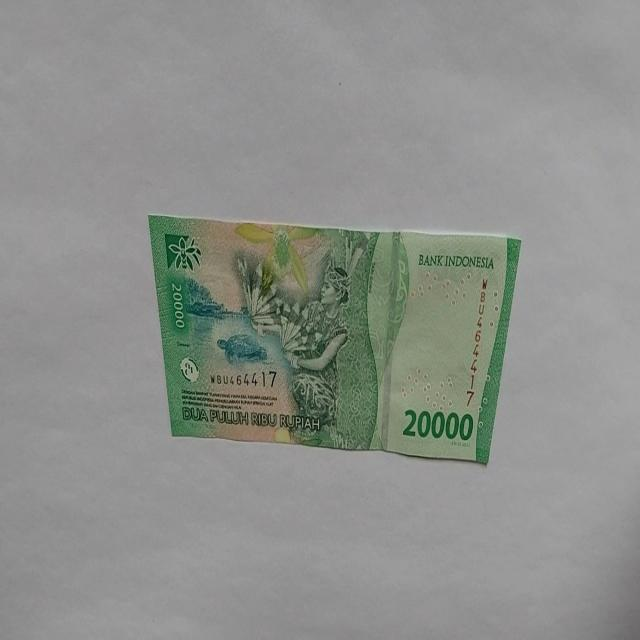dua puluh ribu rupiah: (148, 212, 522, 466)
